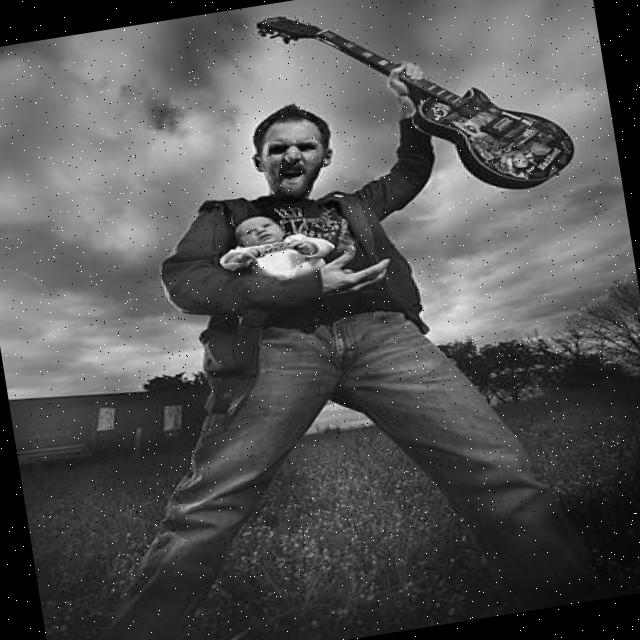guitar: (258, 0, 589, 231)
